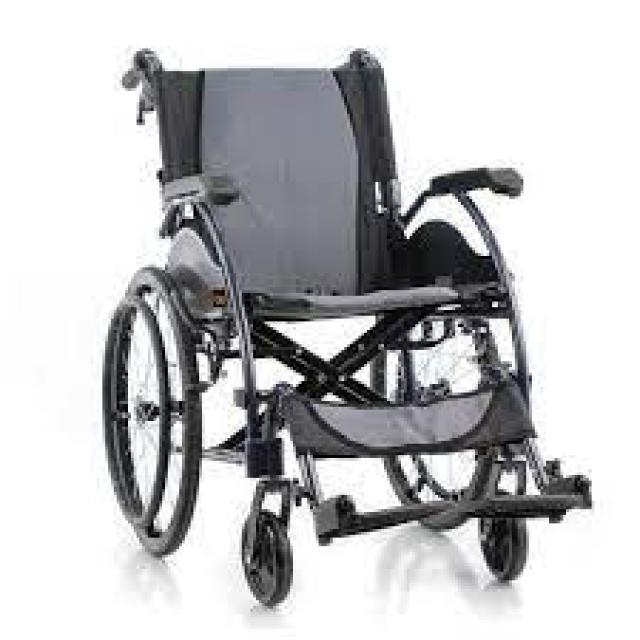wheelchairs: (105, 45, 580, 598)
